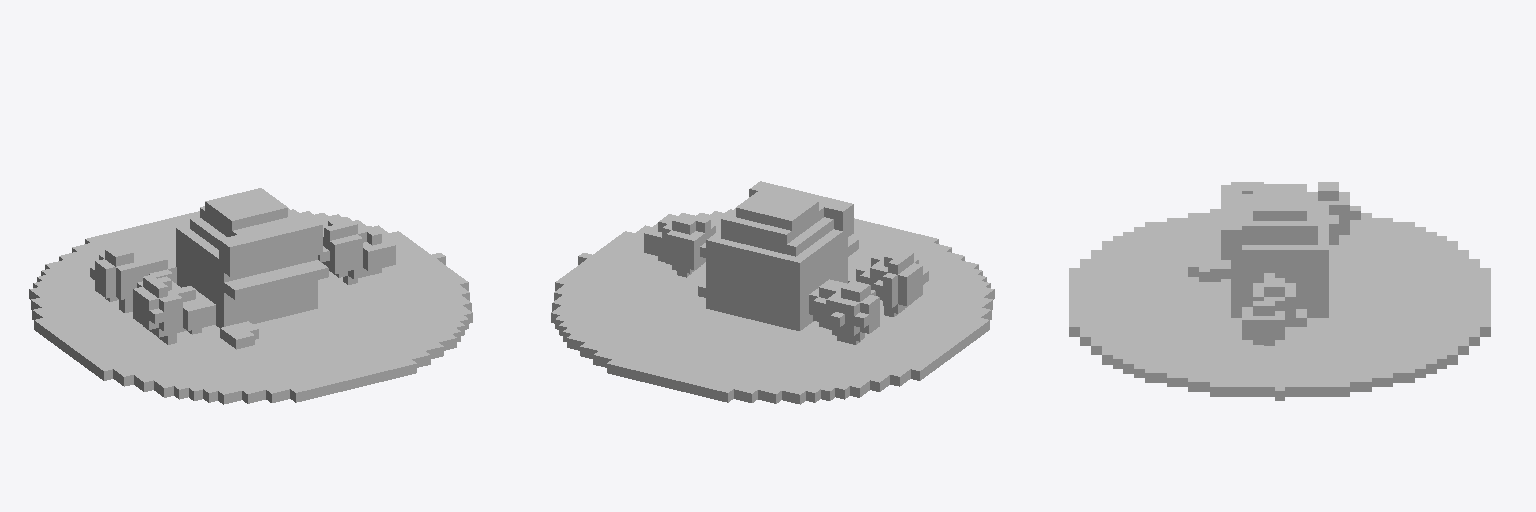
Rendered from bakery bottom.obj.
The picture shows the model from 3 angles: view 1: azimuth 30°, elevation 25°; view 2: azimuth 150°, elevation 25°; view 3: azimuth 270°, elevation 25°; orthographic projection.
Parts seen in each view (by area): view 1: bakery bottom; view 2: bakery bottom; view 3: bakery bottom.
Part boxes in pixels (x1,y1,x2,y2): bakery bottom: (29, 188, 472, 404); bakery bottom: (551, 181, 994, 404); bakery bottom: (1069, 182, 1490, 400).
Size of the model in its own units: 40 by 11 by 39.